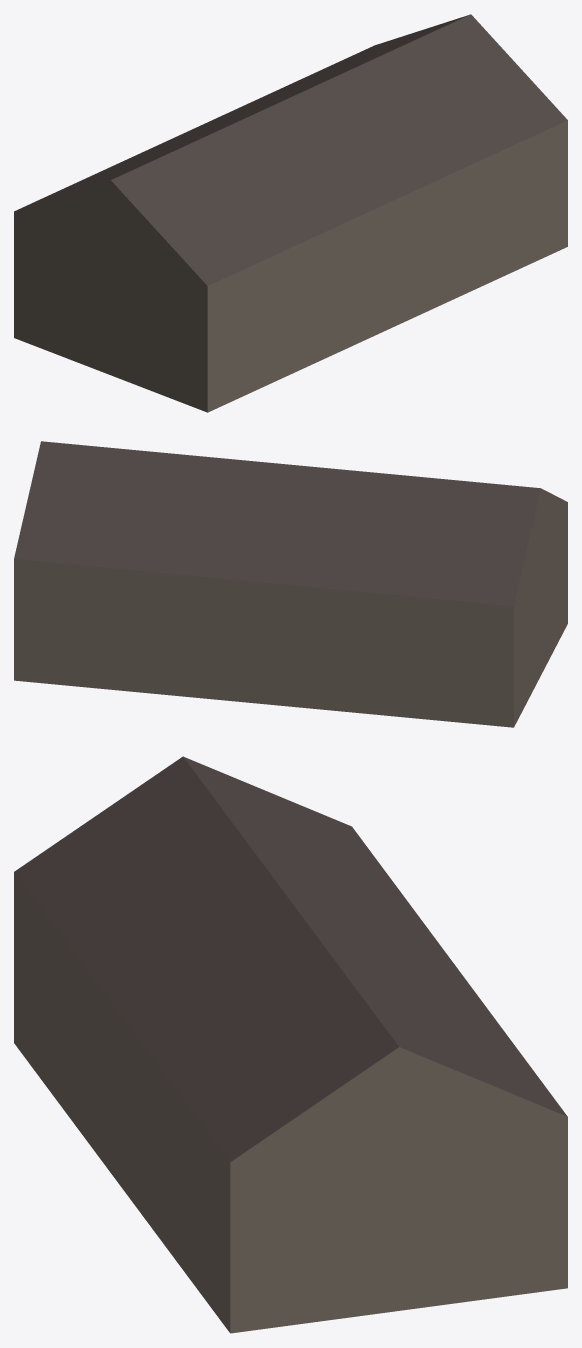
3 renders of one model, top to bottom at view 1: azimuth 30°, elevation 25°; view 2: azimuth 150°, elevation 25°; view 3: azimuth 270°, elevation 25°, orthographic. The views are drawn at different scales.
Visible parts, largest first — view 1: HP-w859457373; view 2: HP-w859457373; view 3: HP-w859457373.
Part boxes in pixels (box(x1,y1,x2,y2)): HP-w859457373: box(14, 14, 567, 412); HP-w859457373: box(14, 441, 567, 727); HP-w859457373: box(14, 756, 567, 1333).
Size of the model in its own units: 25.26 by 9.25 by 17.61.
